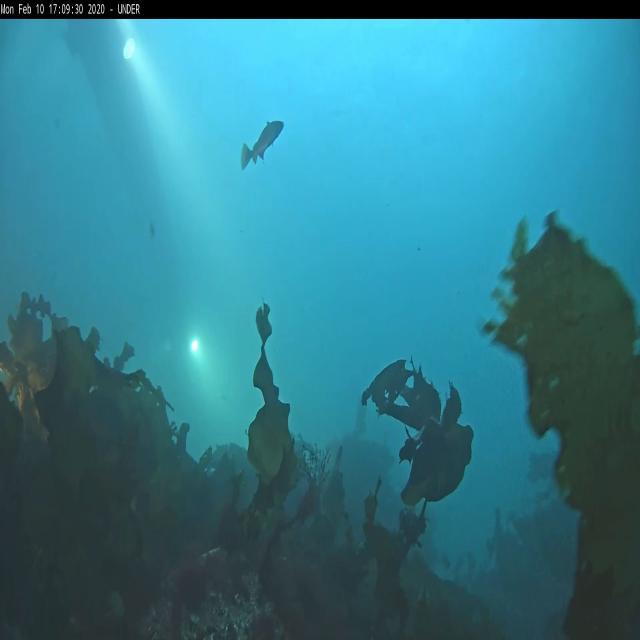fish: (241, 119, 286, 169)
